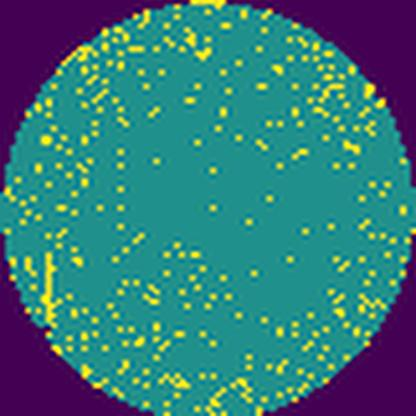Scratch: (35, 247, 66, 328)
